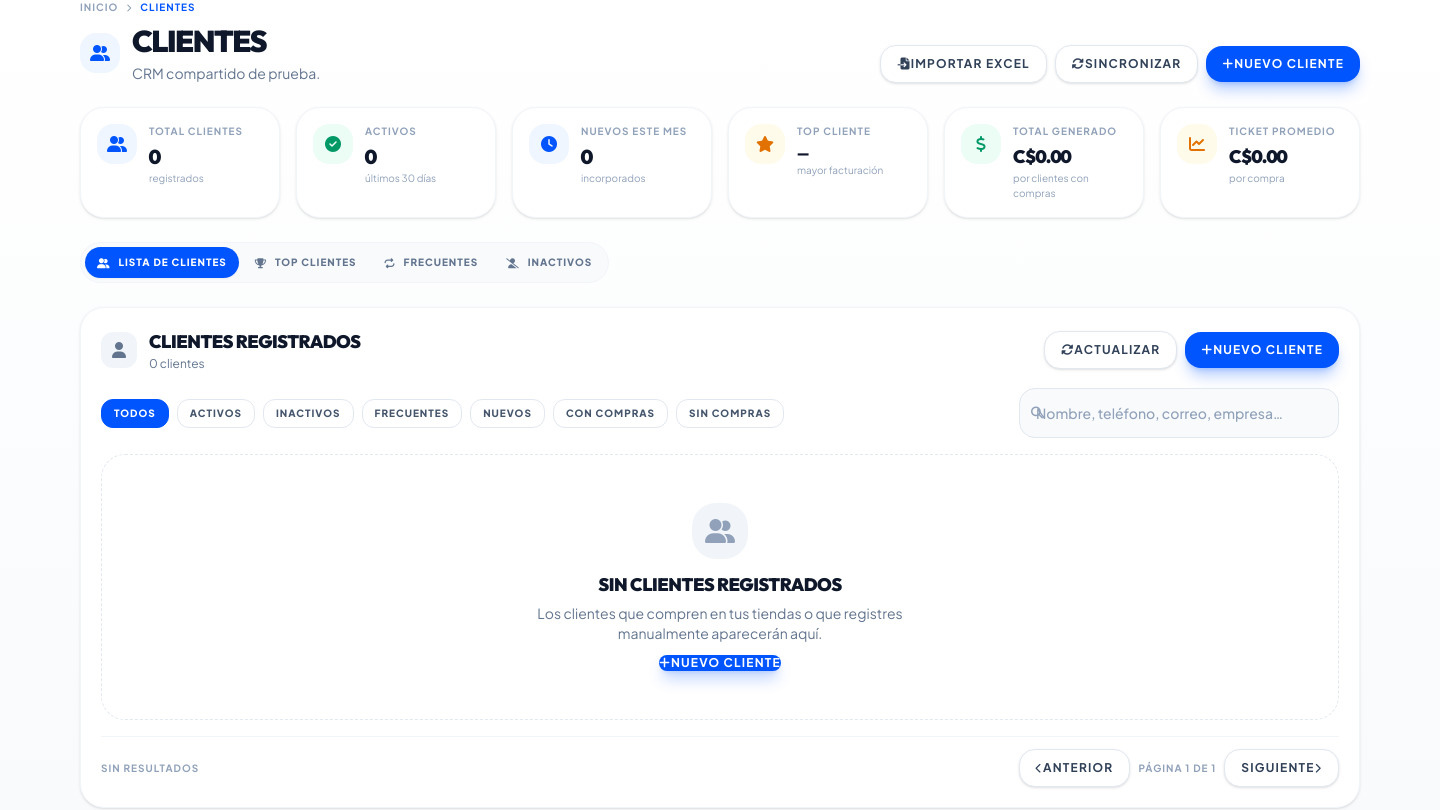
Test: ClientsPageComponent › debe mostrar el estado vacío y abrir el alta desde ahí
The width and height of the screenshot is (1440, 810).
Expected: the element with test id "clients-empty" is shown, x1=101 y1=454 x2=1339 y2=720
What coordinates should you click on to do the following:
click the button with test id "clients-empty-new"
I would click on:
 (720, 663)
Its box is x1=659 y1=655 x2=781 y2=671.
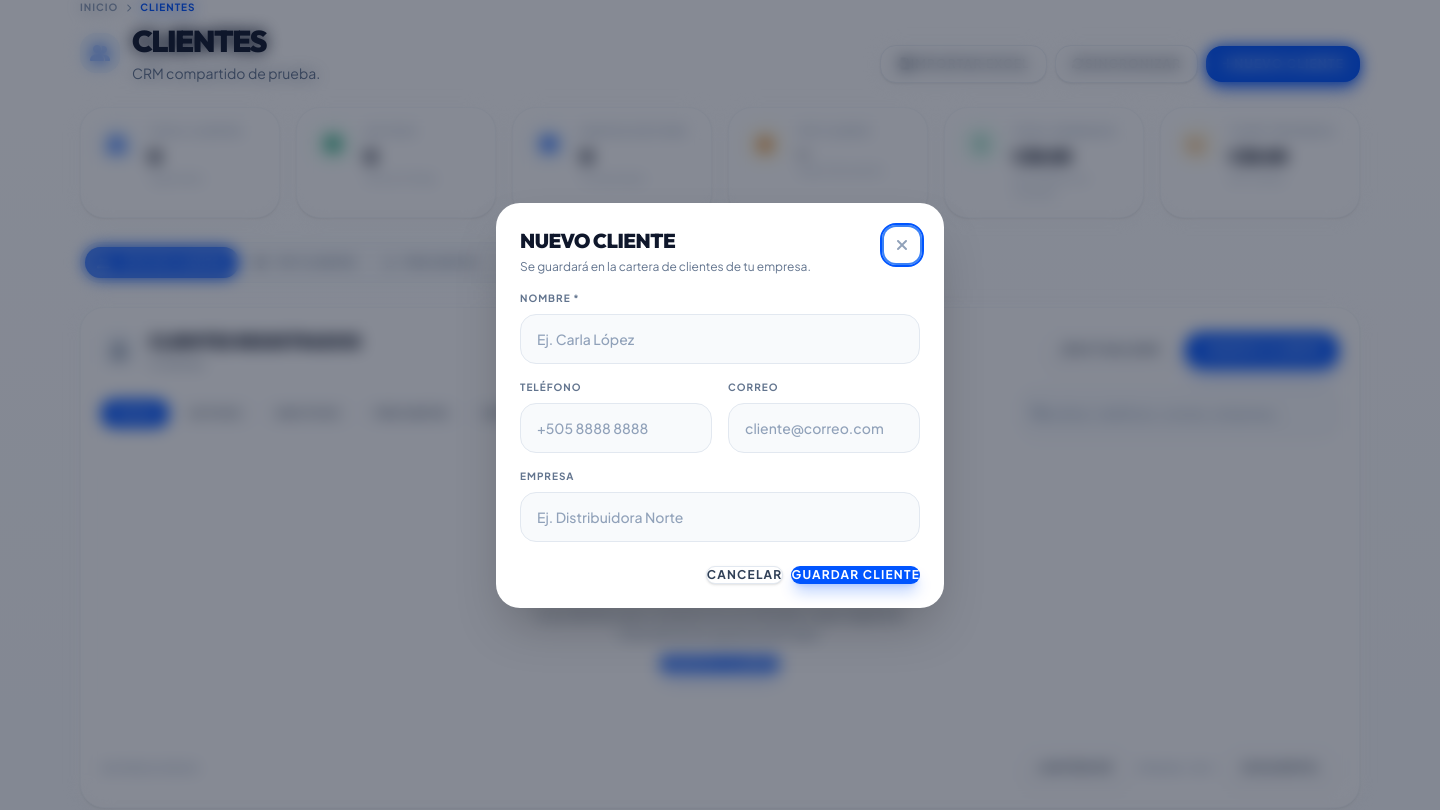
Now the dialog with test id "client-dialog" is shown, box x1=496 y1=202 x2=944 y2=608
